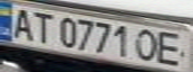0: (54, 15, 78, 48)
1: (109, 22, 133, 58)
7: (72, 17, 96, 52), (90, 20, 112, 54)
A: (6, 6, 36, 40)
E: (154, 29, 190, 68)
O: (130, 27, 163, 62)
T: (27, 10, 57, 44)
